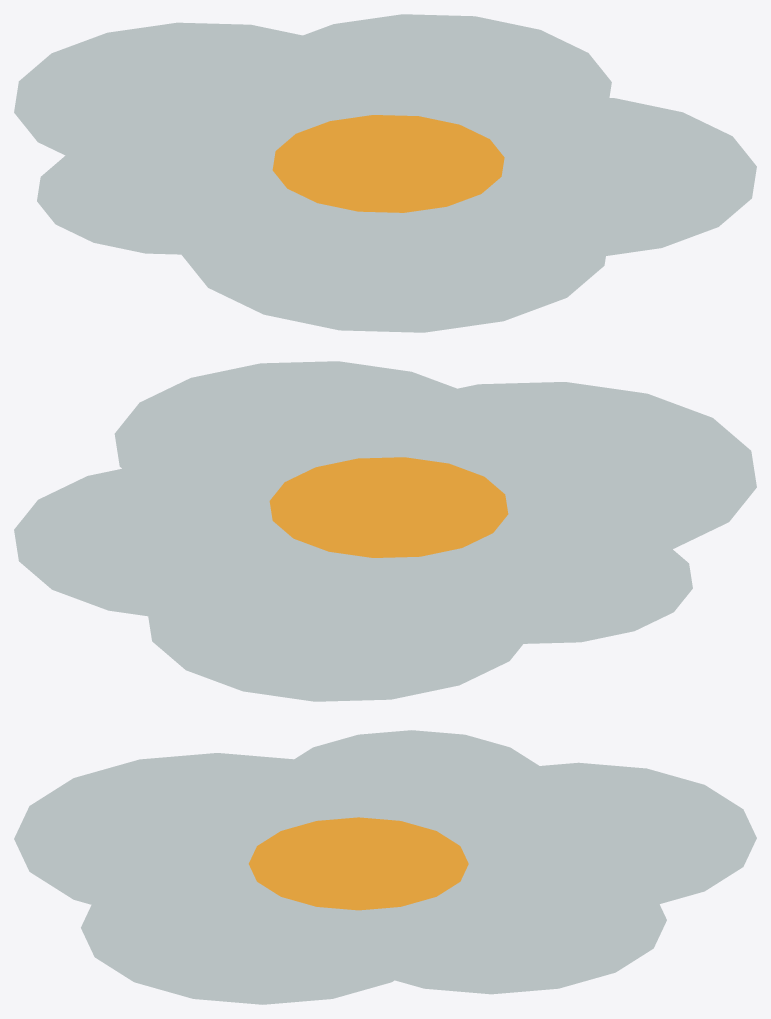
File: Flower1.fbx
3 views of the same model, one above another, from view 1: azimuth 30°, elevation 25°; view 2: azimuth 150°, elevation 25°; view 3: azimuth 270°, elevation 25° (orthographic). The views are drawn at different scales.
Parts seen in each view (by area): view 1: Circle.004; view 2: Circle.004; view 3: Circle.004.
Boxes of the visible parts, x1,y1,x2,y2 form: Circle.004: [14, 14, 756, 332]; Circle.004: [14, 361, 756, 701]; Circle.004: [14, 730, 756, 1004].
Size of the model in its own units: 0.9596 by 0.0102 by 1.1.
